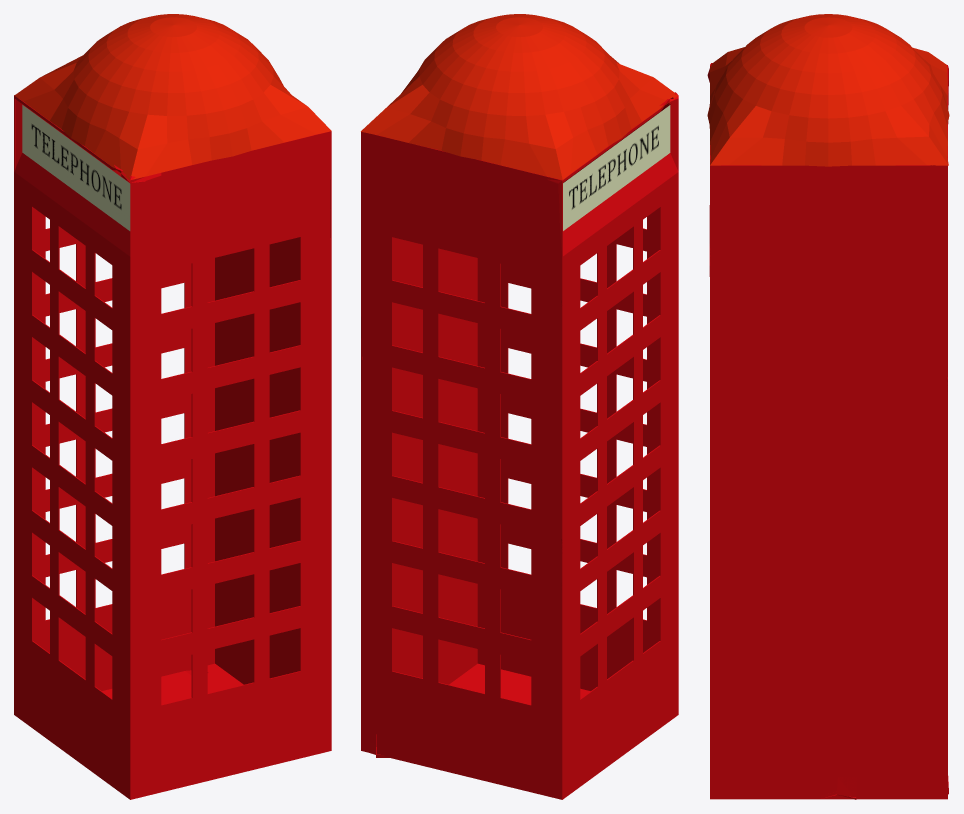
Rendered from Telefoonhokje.fbx.
3 renders of one model, left to right at view 1: azimuth 30°, elevation 25°; view 2: azimuth 150°, elevation 25°; view 3: azimuth 270°, elevation 25°, orthographic. The views are drawn at different scales.
Parts seen in each view (by area): view 1: Cube, Sphere; view 2: Cube, Sphere; view 3: Cube, Sphere.
Boxes of the visible parts, x1=… form: Cube: x1=14, y1=95, x2=331, y2=799; Sphere: x1=14, y1=14, x2=331, y2=179; Cube: x1=361, y1=92, x2=678, y2=799; Sphere: x1=361, y1=14, x2=677, y2=180; Cube: x1=707, y1=63, x2=948, y2=799; Sphere: x1=707, y1=14, x2=949, y2=166.
Size of the model in its own units: 204 by 674 by 204.
